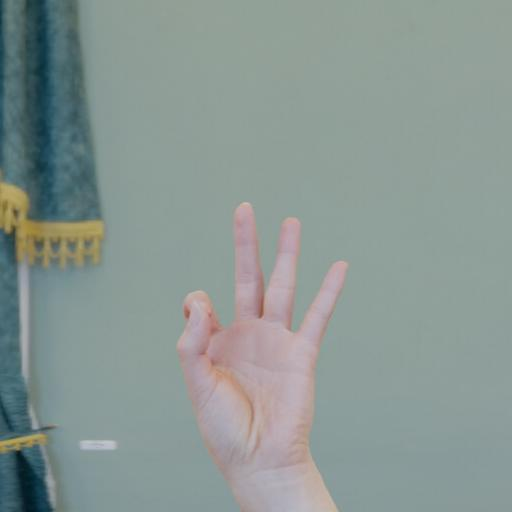F: (130, 177, 380, 512)
